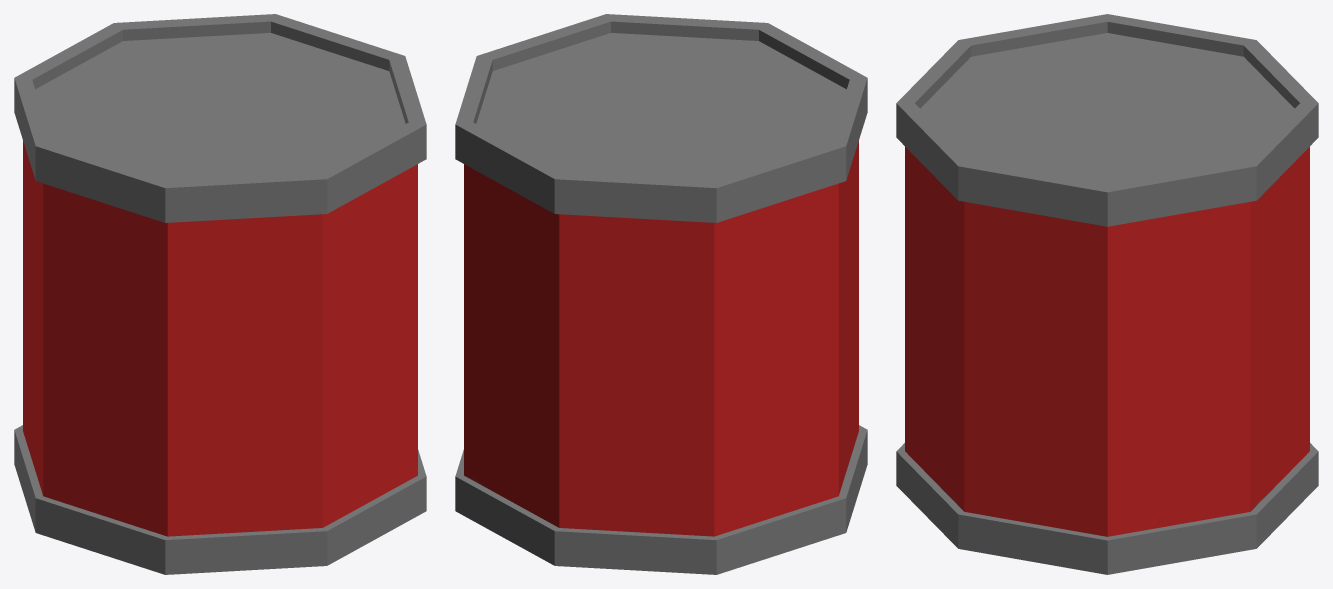
The model's file is can_closed_text (1).fbx.
3 renders of one model, left to right at view 1: azimuth 30°, elevation 25°; view 2: azimuth 150°, elevation 25°; view 3: azimuth 270°, elevation 25°, orthographic.
Visible parts, largest first — view 1: conserve_closed; view 2: conserve_closed; view 3: conserve_closed.
Boxes of the visible parts, left/top/right/bottom form: conserve_closed: left=14, top=14, right=426, bottom=574; conserve_closed: left=455, top=14, right=867, bottom=574; conserve_closed: left=896, top=14, right=1318, bottom=574.
Size of the model in its own units: 10 by 10 by 10.
Materials: 1 (1 with a texture image).
